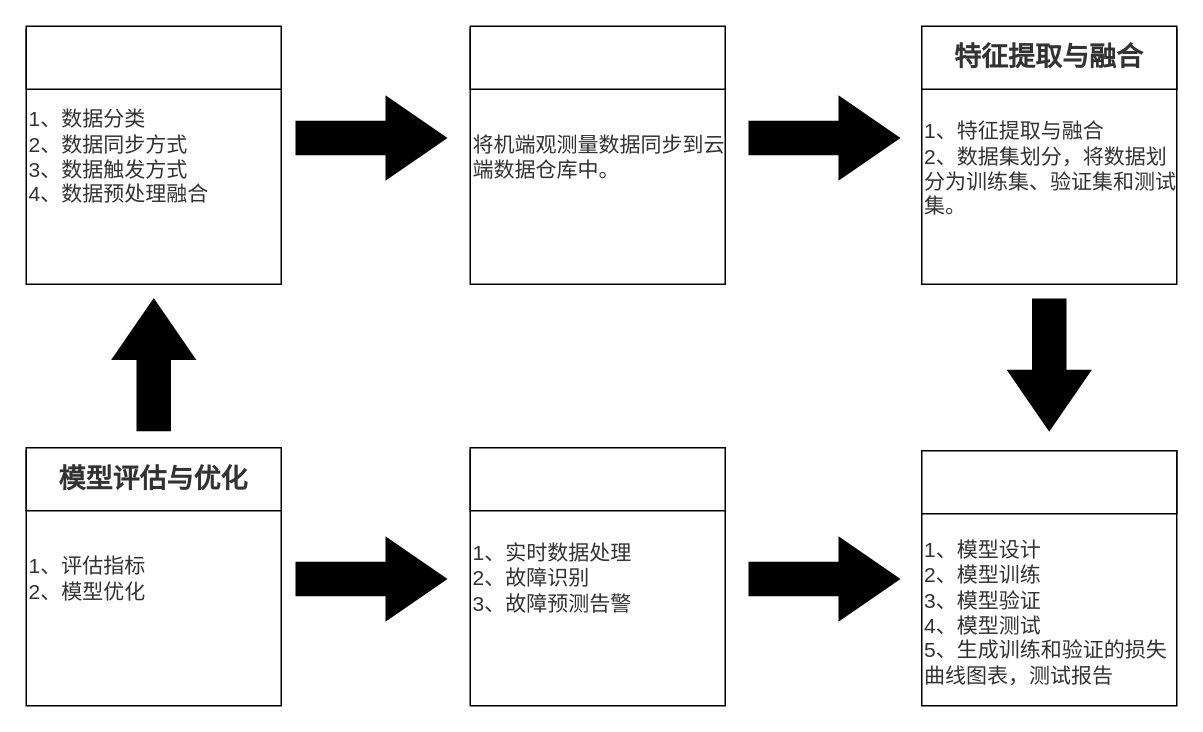
Some shapes in this 1203 by 732 pixel diagram are drawn without their labels. The shapes that lost their labels are listed below. From the top down, each one's centre as x and y in pixels, then its label:
the point at 153,57: 数据收集与预处理
the point at 597,57: 观测量数据存储
the point at 597,478: 故障预测与诊断
the point at 1048,481: Informer模型设计与训练
